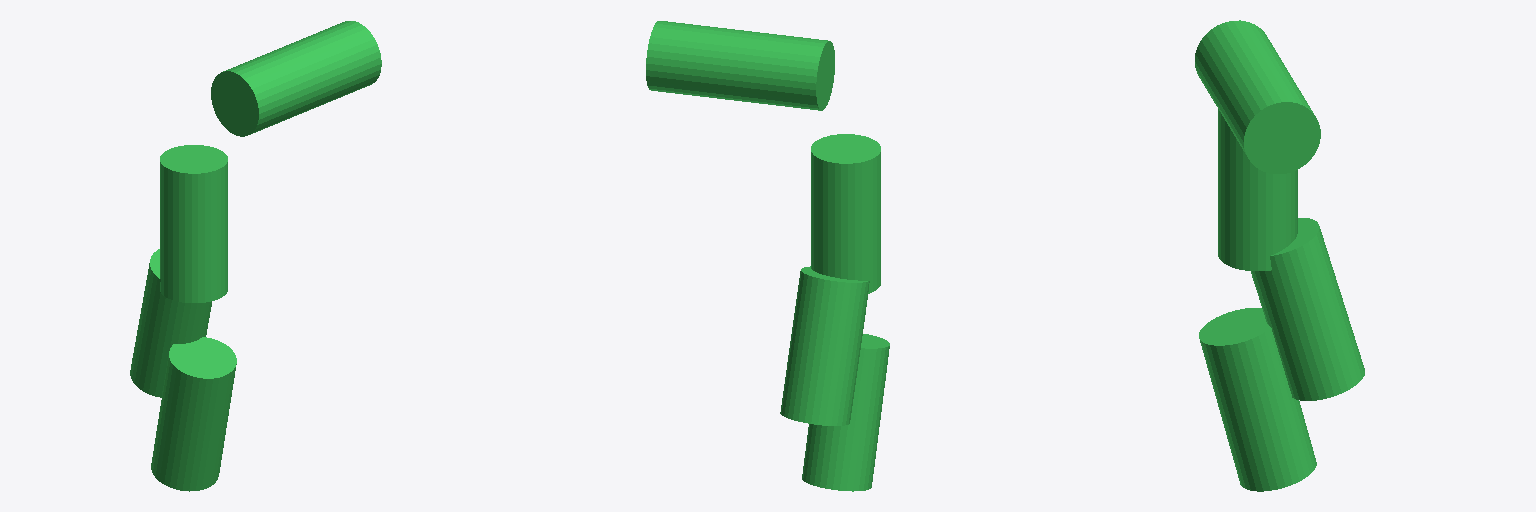
robot.urdf — panda_hand:
<?xml version='1.0' encoding='utf-8'?>
<robot name="panda_hand">

    <link name="link0">
      <inertial>
        <origin xyz="0 0 0.05" rpy="0 0 0" />
        <mass value="4" />
        <inertia ixx="0.4" iyy="0.4" izz="0.4" ixy="0" ixz="0" iyz="0" />
      </inertial>
      <visual>
        <geometry>
          <mesh filename="../../../Model/meshes/link0.obj"/>
        </geometry>
      </visual>
<!--       <collision>
        <geometry>
          <mesh filename="../../../Model/meshes/link0.obj"/>
        </geometry>
      </collision> -->
    </link>
    <link name="link1">
      <inertial>
        <origin xyz="0 0 -0.07" rpy="0 -0 0" />
        <mass value="3" />
        <inertia ixx="0.3" iyy="0.3" izz="0.3" ixy="0" ixz="0" iyz="0" />
      </inertial>
      <visual>
        <geometry>
          <mesh filename="../../../Model/meshes/link1.obj"/>
        </geometry>
      </visual>
      <visual>
        <origin xyz="0.0 -0.0 -0.2" rpy="0.25 0.0 0.0" />
        <geometry>
          <cylinder radius="0.06" length="0.25" />
        </geometry>
        <material name="material_gray">
          <color rgba="0.3 0.8 0.4 0.1" />
        </material>
      </visual>
      <!-- <collision>
        <geometry>
          <mesh filename="../../../Model/meshes/link1.obj"/>
        </geometry>
      </collision> -->
    </link>
    <link name="link2">
      <inertial>
        <origin xyz="0 -0.1 0" rpy="0 -0 0" />
        <mass value="3" />
        <inertia ixx="0.3" iyy="0.3" izz="0.3" ixy="0" ixz="0" iyz="0" />
      </inertial>
      <visual>
        <geometry>
          <mesh filename="../../../Model/meshes/link2.obj"/>
        </geometry>
      </visual>
      <visual>
        <origin xyz="-0.0 0.05 0.07" rpy="1.85 0.0 0.0" />
        <geometry>
          <cylinder radius="0.06" length="0.25" />
        </geometry>
        <material name="material_gray">
          <color rgba="0.3 0.8 0.4 0.1" />
        </material>
      </visual>
<!--       <collision>
        <geometry>
          <mesh filename="../../../Model/meshes/link2.obj"/>
        </geometry>
      </collision> -->
    </link>
    <link name="link3">
      <inertial>
        <origin xyz="0.04 0 -0.05" rpy="0 -0 0" />
        <mass value="2" />
        <inertia ixx="0.2" iyy="0.2" izz="0.2" ixy="0" ixz="0" iyz="0" />
      </inertial>
      <visual>
        <geometry>
          <mesh filename="../../../Model/meshes/link3.obj"/>
        </geometry>
      </visual>
      <visual>
        <origin xyz="-0.0 0.0 -0.15" rpy="0.0 0.0 0.0" />
        <geometry>
          <cylinder radius="0.06" length="0.25" />
        </geometry>
        <material name="material_gray">
          <color rgba="0.3 0.8 0.4 0.1" />
        </material>
      </visual>
      <!-- <collision>
        <geometry>
          <mesh filename="../../../Model/meshes/link3.obj"/>
        </geometry>
      </collision> -->
    </link>
    <link name="link4">
      <inertial>
        <origin xyz="-0.04 0.05 0" rpy="0 -0 0" />
        <mass value="2" />
        <inertia ixx="0.2" iyy="0.2" izz="0.2" ixy="0" ixz="0" iyz="0" />
      </inertial>
      <visual>
        <geometry>
          <mesh filename="../../../Model/meshes/link4.obj"/>
        </geometry>
      </visual>
<!--       <visual>
        <origin xyz="0.0 -0.0 0.1" rpy="1.1 0.0 1.0" />
        <geometry>
          <cylinder radius="0.06" length="0.3" />
        </geometry>
        <material name="material_gray">
          <color rgba="0.3 0.8 0.4 0.1" />
        </material>
      </visual> -->
<!--       <collision>
        <geometry>
          <mesh filename="../../../Model/meshes/link4.obj"/>
        </geometry>
      </collision> -->
    </link>
    <link name="link5">
      <inertial>
        <origin xyz="0 0 -0.15" rpy="0 -0 0" />
        <mass value="2" />
        <inertia ixx="0.2" iyy="0.2" izz="0.2" ixy="0" ixz="0" iyz="0" />
      </inertial>
      <visual>
        <geometry>
          <mesh filename="../../../Model/meshes/link5.obj"/>
        </geometry>
      </visual>
      <visual>
        <origin xyz="0.0 -0.0 -0.26" rpy="-0.25 0.0 0.0" />
        <geometry>
          <cylinder radius="0.06" length="0.3" />
        </geometry>
        <material name="material_gray">
          <color rgba="0.3 0.8 0.4 0.1" />
        </material>
      </visual>
<!--       <collision>
        <origin xyz="0.0 0.0 -0.3" rpy="-0.2 0.0 0.0" />
        <geometry>
          <cylinder radius="0.05" length="0.4" />
        </geometry>
      </collision> -->
      <collision>
        <geometry>
          <mesh filename="../../../Model/meshes/link5.obj"/>
        </geometry>
      </collision>
    </link>
    <link name="link6">
      <inertial>
        <origin xyz="0.06 0 0" rpy="0 -0 0" />
        <mass value="1.5" />
        <inertia ixx="0.1" iyy="0.1" izz="0.1" ixy="0" ixz="0" iyz="0" />
      </inertial>
      <visual>
        <geometry>
          <mesh filename="../../../Model/meshes/link6.obj"/>
        </geometry>
      </visual>
      <!-- <collision>
        <geometry>
          <mesh filename="../../../Model/meshes/link6.obj"/>
        </geometry>
      </collision> -->
    </link>
    <link name="link7">
      <inertial>
        <origin xyz="0 0 0.17" rpy="0 -0 0" />
        <mass value="1.8" />
        <inertia ixx="0.09" iyy="0.05" izz="0.07" ixy="0" ixz="0" iyz="0" />
      </inertial>
      <visual>
        <origin xyz="0 0 0" rpy="0 0 0" />
        <geometry>
          <mesh filename="../../../Model/meshes/link7.obj"/>
        </geometry>
      </visual>
      <!-- <collision>
        <geometry>
          <mesh filename="../../../Model/meshes/link7.obj"/>
        </geometry>
      </collision> -->
      <visual>
        <origin xyz="0 0 0.107" rpy="0 0 -0.78539816339" />
        <geometry>
          <mesh filename="../../../Model/meshes/hand.obj"/>
        </geometry>
      </visual>
<!--       <collision>
        <origin xyz="0 0 0.107" rpy="0 0 0" />
        <geometry>
          <mesh filename="../../../Model/meshes/hand.obj"/>
        </geometry>
      </collision> -->
    </link>
    <link name="leftfinger">
      <inertial>
        <origin xyz="0 0 0.05" rpy="0 -0 0" />
        <mass value="0.1" />
        <inertia ixx="0.01" iyy="0.01" izz="0.005" ixy="0" ixz="0" iyz="0" />
      </inertial>
      <visual>
        <geometry>
          <mesh filename="../../../Model/meshes/finger.obj"/>
        </geometry>
      </visual>
      <collision>
        <geometry>
          <mesh filename="../../../Model/meshes/finger.obj"/>
        </geometry>
      </collision>
    </link>
    <link name="rightfinger">
      <inertial>
        <origin xyz="0 0 0.05" rpy="0 -0 0" />
        <mass value="0.1" />
        <inertia ixx="0.01" iyy="0.01" izz="0.005" ixy="0" ixz="0" iyz="0" />
      </inertial>
      <visual>
        <origin xyz="0 0 0" rpy="0 0 3.14159265359"/>
        <geometry>
          <mesh filename="../../../Model/meshes/finger.obj"/>
        </geometry>
      </visual>
      <collision>
        <origin xyz="0 0 0" rpy="0 0 3.14159265359"/>
        <geometry>
          <mesh filename="../../../Model/meshes/finger.obj"/>
        </geometry>
      </collision>
    </link>
    <joint name="joint1" type="revolute">
      <safety_controller k_position="100.0" k_velocity="40.0" soft_lower_limit="-2.8973" soft_upper_limit="2.8973"/>
      <origin rpy="0 0 0" xyz="0 0 0.333"/>
      <parent link="link0"/>
      <child link="link1"/>
      <axis xyz="0 0 1"/>
      <limit effort="87" lower="-2.8973" upper="2.8973" velocity="2.1750"/>
    </joint>
    <joint name="joint2" type="revolute">
      <safety_controller k_position="100.0" k_velocity="40.0" soft_lower_limit="-1.7628" soft_upper_limit="1.7628"/>
      <origin rpy="-1.57079632679 0 0" xyz="0 0 0"/>
      <parent link="link1"/>
      <child link="link2"/>
      <axis xyz="0 0 1"/>
      <calibration falling="-45.0" />
      <limit effort="87" lower="-1.7628" upper="1.7628" velocity="2.1750"/>
    </joint>
    <joint name="joint3" type="revolute">
      <safety_controller k_position="100.0" k_velocity="40.0" soft_lower_limit="-2.8973" soft_upper_limit="2.8973"/>
      <origin rpy="1.57079632679 0 0" xyz="0 -0.316 0"/>
      <parent link="link2"/>
      <child link="link3"/>
      <axis xyz="0 0 1"/>
      <limit effort="87" lower="-2.8973" upper="2.8973" velocity="2.1750"/>
    </joint>
    <joint name="joint4" type="revolute">
      <safety_controller k_position="100.0" k_velocity="40.0" soft_lower_limit="-3.0718" soft_upper_limit="-0.0698"/>
      <origin rpy="1.57079632679 0 0" xyz="0.0825 0 0"/>
      <parent link="link3"/>
      <child link="link4"/>
      <axis xyz="0 0 1"/>
      <calibration falling="-125.0" />
      <limit effort="87" lower="-3.0718" upper="-0.0698" velocity="2.1750"/>
    </joint>
    <joint name="joint5" type="revolute">
      <safety_controller k_position="100.0" k_velocity="40.0" soft_lower_limit="-2.8973" soft_upper_limit="2.8973"/>
      <origin rpy="-1.57079632679 0 0" xyz="-0.0825 0.384 0"/>
      <parent link="link4"/>
      <child link="link5"/>
      <axis xyz="0 0 1"/>
      <limit effort="12" lower="-2.8973" upper="2.8973" velocity="2.6100"/>
    </joint>
    <joint name="joint6" type="revolute">
      <safety_controller k_position="100.0" k_velocity="40.0" soft_lower_limit="-0.0175" soft_upper_limit="3.7525"/>
      <origin rpy="1.57079632679 0 0" xyz="0 0 0"/>
      <parent link="link5"/>
      <child link="link6"/>
      <axis xyz="0 0 1"/>
      <calibration falling="130.0" />
      <limit effort="12" lower="-0.0175" upper="3.7525" velocity="2.6100"/>
    </joint>
    <joint name="joint7" type="revolute">
      <safety_controller k_position="100.0" k_velocity="40.0" soft_lower_limit="-2.8973" soft_upper_limit="2.8973"/>
      <origin rpy="1.57079632679 0 0" xyz="0.088 0 0"/>
      <parent link="link6"/>
      <child link="link7"/>
      <axis xyz="0 0 1"/>
      <limit effort="12" lower="-2.8973" upper="2.8973" velocity="2.6100"/>
    </joint>
    <joint name="finger_joint1" type="prismatic">
      <parent link="link7"/>
      <child link="leftfinger"/>
      <origin xyz="0 0 0.1654" rpy="0 0 -0.78539816339"/>
      <axis xyz="0 1 0"/>
      <calibration rising="0.02" />
      <limit effort="20" lower="0.0" upper="0.04" velocity="0.2"/>
    </joint>
    <joint name="finger_joint2" type="prismatic">
      <parent link="link7"/>
      <child link="rightfinger"/>
      <origin xyz="0 0 0.1654" rpy="0 0 -0.78539816339"/>
      <axis xyz="0 1 0"/>
      <calibration rising="-0.02" />
      <limit effort="20" lower="0.0" upper="0.04" velocity="0.2"/>
      <mimic joint="finger_joint1" />
    </joint>
<!--     <link name="link8"/>
    <joint name="joint8" type="fixed">
      <origin rpy="0 0 0" xyz="0 0 0.107"/>
      <parent link="link7"/>
      <child link="link8"/>
      <axis xyz="0 0 0"/>
    </joint> -->
  <!-- </xacro:macro> -->
</robot>

--- Facts derived from the render (not from the file) ---
3 views of the same robot in one strip: view 1: azimuth 30°, elevation 25°; view 2: azimuth 150°, elevation 25°; view 3: azimuth 270°, elevation 25° (orthographic).
Robot: panda_hand — 10 links, 9 joints (7 revolute, 2 prismatic); root link link0; default pose: all joints at 0 but 1 set to mid-range because 0 is outside their limits (joint4 = -1.57).
Visible links, largest first — view 1: link5, link3, link1, link2; view 2: link5, link2, link3, link1; view 3: link1, link2, link5, link3.
Link boxes in pixels (left/top/right/bottom): link5: left=211, top=21, right=381, bottom=136; link3: left=160, top=145, right=227, bottom=302; link1: left=151, top=337, right=236, bottom=491; link2: left=130, top=249, right=211, bottom=397; link5: left=646, top=21, right=834, bottom=110; link2: left=780, top=266, right=869, bottom=425; link3: left=811, top=134, right=880, bottom=293; link1: left=802, top=334, right=889, bottom=491; link1: left=1199, top=308, right=1316, bottom=491; link2: left=1251, top=218, right=1364, bottom=400; link5: left=1195, top=20, right=1320, bottom=173; link3: left=1218, top=109, right=1297, bottom=270.
Size in the robot's own frame: 0.4267 by 0.2574 by 0.7945 metres.
Geometry: only primitive shapes (box / cylinder / sphere) drawn; not drawn: 11 mesh visuals (reference in a form the renderer does not follow).